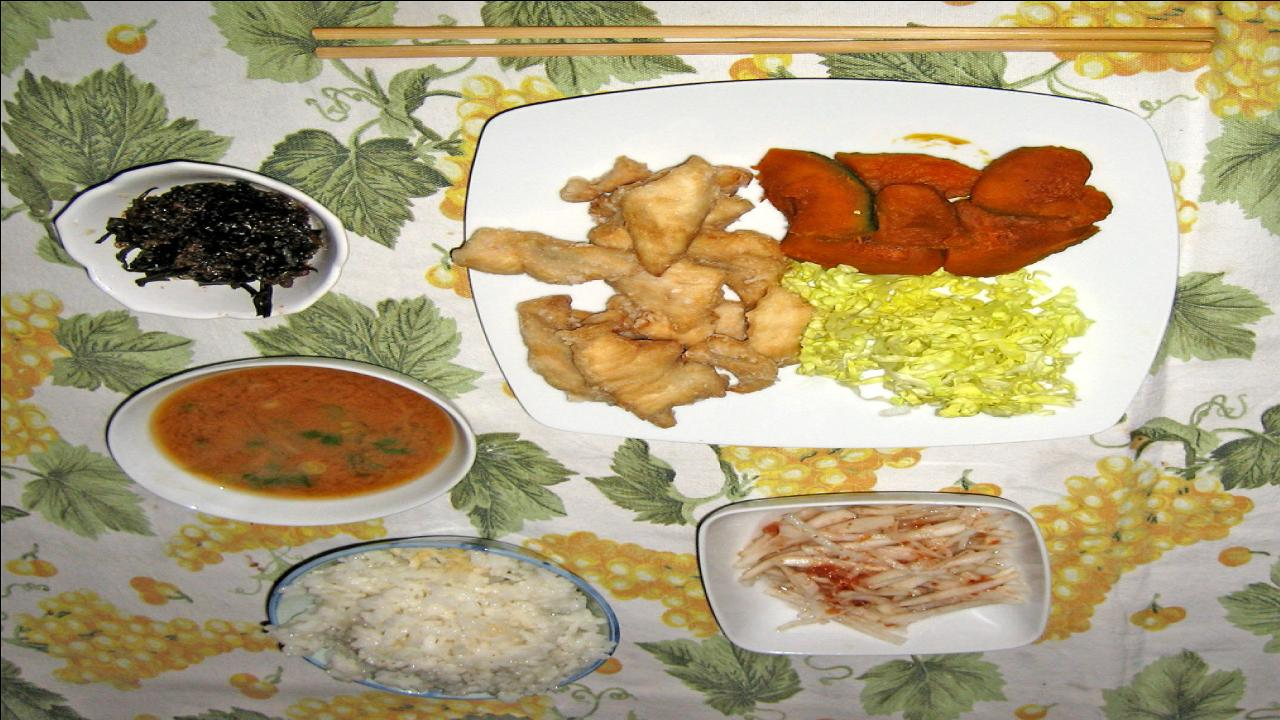chopstick: (300, 22, 1215, 56)
